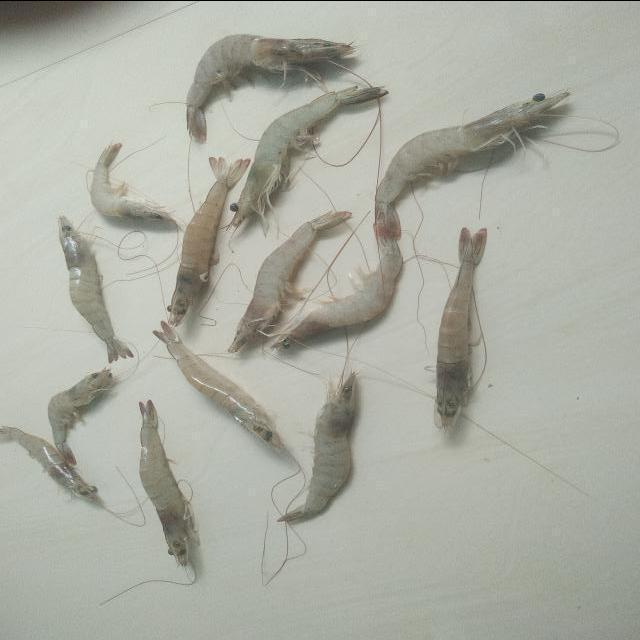shrimp: (376, 90, 570, 214), (229, 84, 388, 231), (185, 32, 354, 140), (227, 210, 351, 352), (152, 320, 282, 451), (271, 222, 402, 348), (167, 156, 250, 326), (278, 372, 355, 523), (57, 215, 131, 362), (435, 226, 487, 429), (138, 400, 198, 567), (0, 426, 99, 504), (89, 142, 174, 221), (47, 369, 113, 465)
